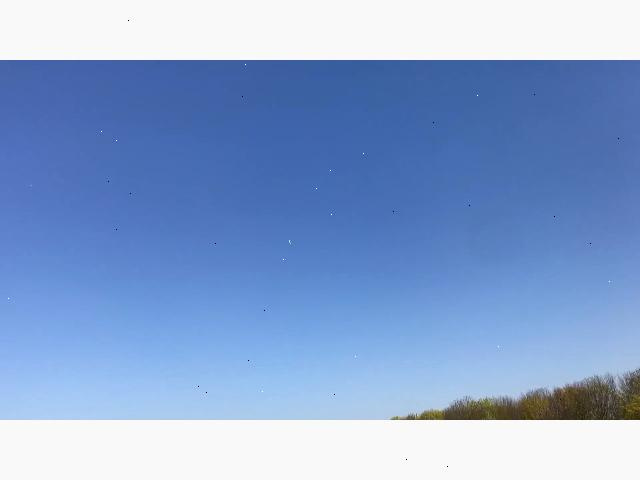Anti-Drone: (280, 236, 300, 248)
